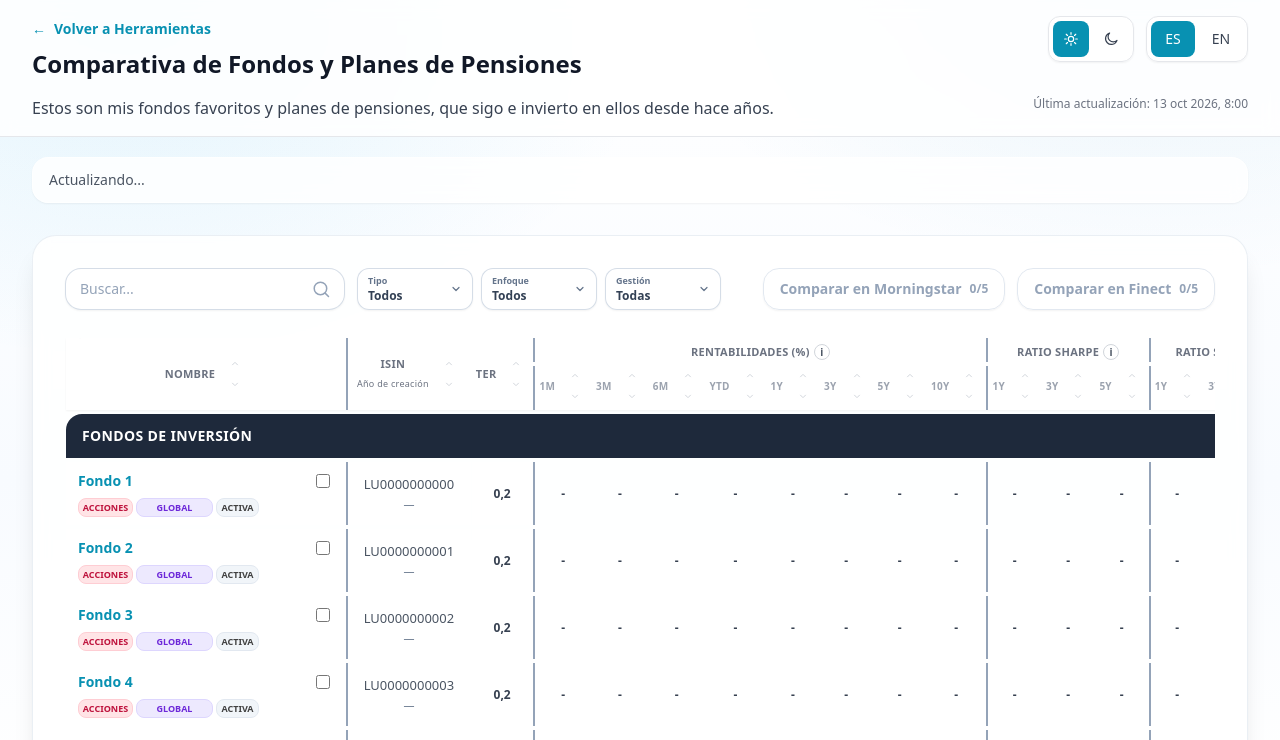
data loading and mobile controls › retains real products after a background connection failure instead of replacing them with examples
The width and height of the screenshot is (1280, 740).
Run the application's pending 5-second refresh without sleeping in the test.
Click the button "EN" at (1221, 39), box [1199, 21, 1243, 57]
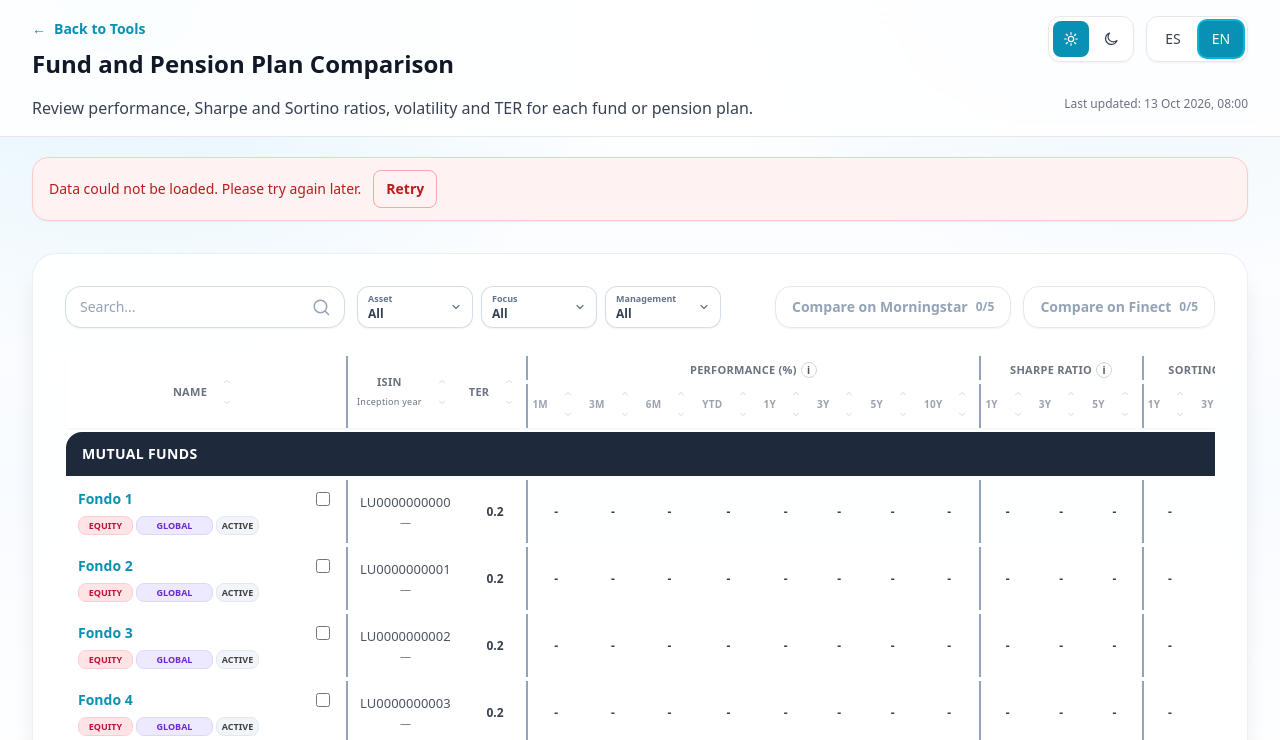
Expected: the link "Fondo 1" is shown, [78, 490, 133, 508]
Result: the button "Retry" is shown at [373, 170, 437, 208]
